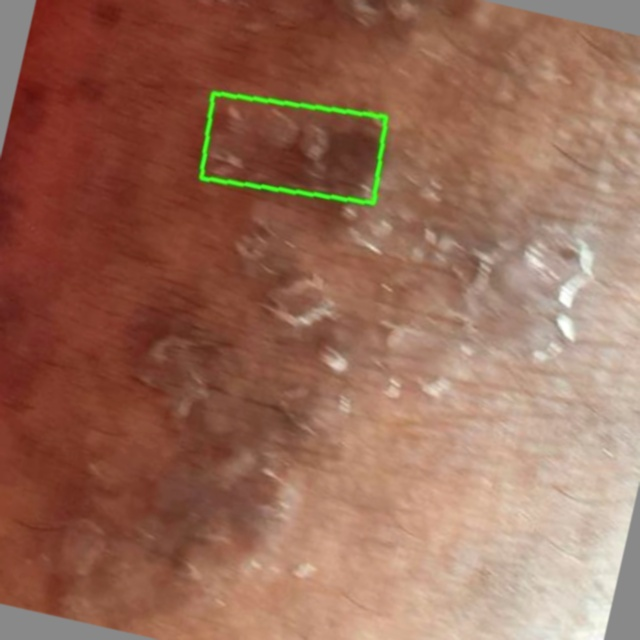Tinea Corporis: (201, 93, 385, 203)
